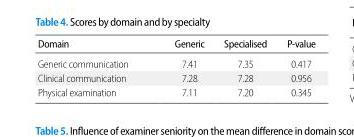table: (36, 36, 314, 97)
table column: (36, 36, 150, 97), (150, 36, 213, 97), (213, 36, 276, 97), (276, 36, 314, 97)
table column header: (36, 36, 314, 53)
table row: (36, 36, 314, 53), (36, 53, 314, 70), (36, 70, 314, 84), (36, 84, 314, 97)
